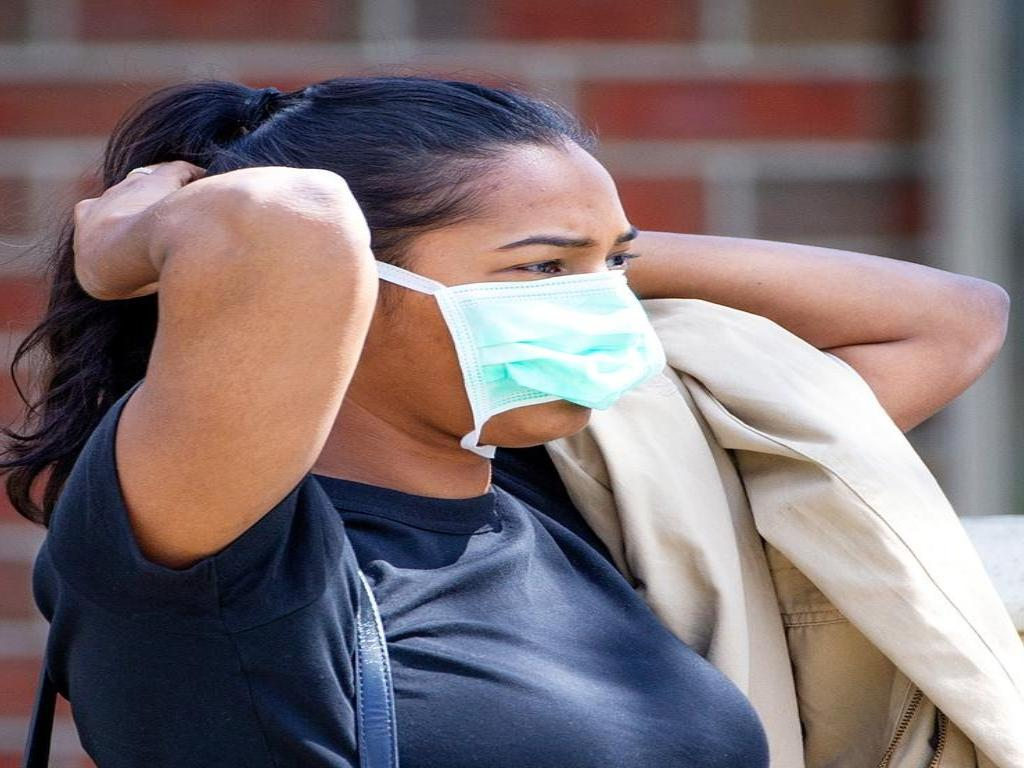mask_weared_incorrect: (208, 75, 672, 465)
